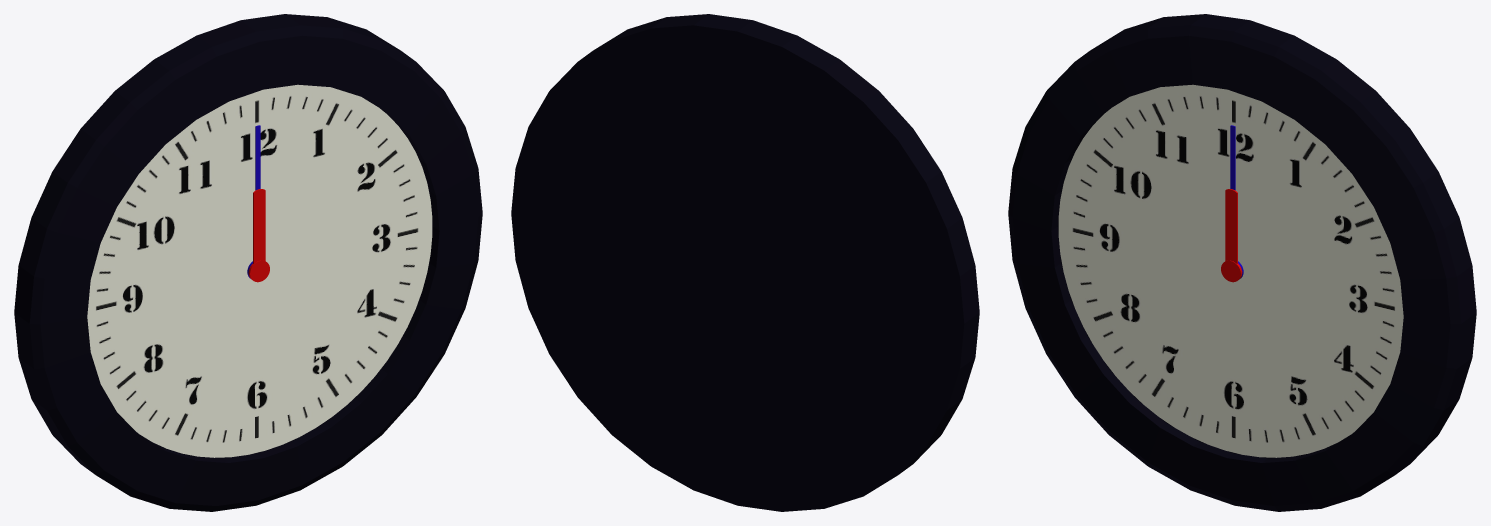
File: clock.glb
3 views of the same model, side by side, from view 1: azimuth 30°, elevation 25°; view 2: azimuth 150°, elevation 25°; view 3: azimuth 330°, elevation 25° (orthographic).
Visible parts, largest first — view 1: Ziffernblatt, Clock, HourTent; view 2: Clock; view 3: Ziffernblatt, Clock, HourTent.
Part boxes in pixels (box(x1,y1,x2,y2)): Ziffernblatt: box(87, 84, 432, 457); Clock: box(14, 14, 482, 511); HourTent: box(248, 189, 269, 282); Clock: box(511, 14, 979, 511); Ziffernblatt: box(1058, 84, 1403, 457); Clock: box(1008, 14, 1476, 511); HourTent: box(1221, 189, 1242, 282).
Bounding box in the file's own units: 2 × 2 × 0.1735.
4 materials, 1 textured.
